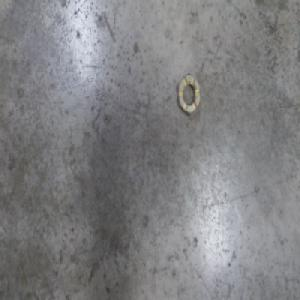Nut: (178, 72, 201, 117)
